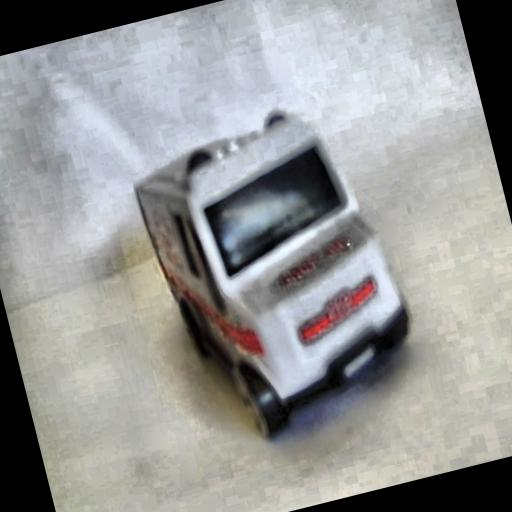ambulance: (122, 90, 430, 456)
